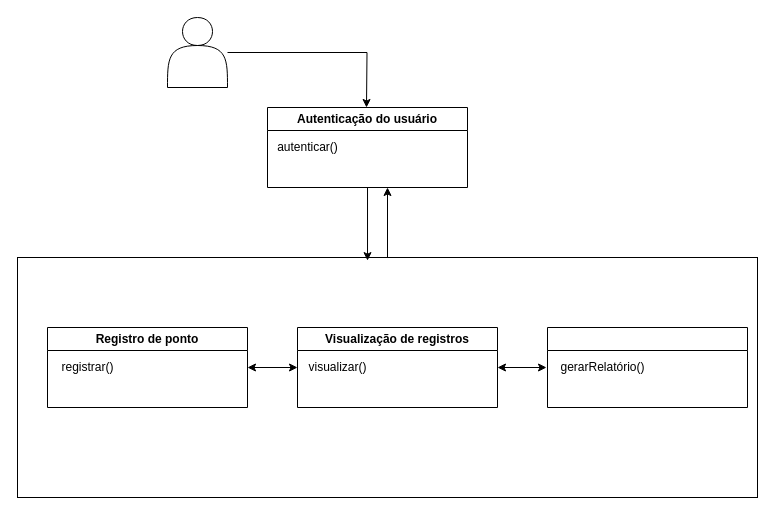
Image size: 775x515. Some labels were removed from this diagram. The box of each missing label's shape, as (x1, y1, x2, y2) in pixels:
Sistema de relatórios: (546, 326, 748, 408)
User: (166, 16, 228, 88)
